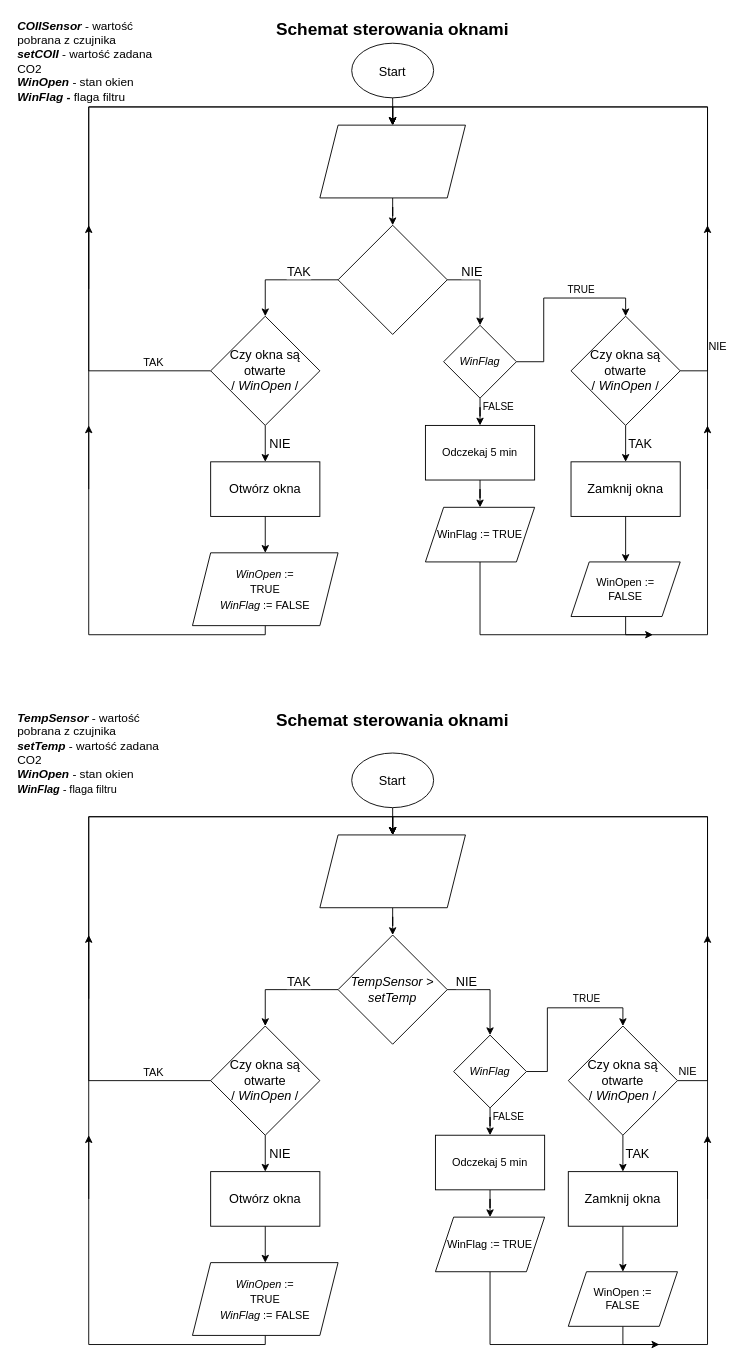
The diagram is 742 pixels wide and 1368 high, and some of its shapes have lost their labels. Each missing label, with the centre of its shape:
COIISensor > setCOII: [392,279]
Pobranie danych z czujnika CO2 / COIISensor /: [392,161]
Pobranie danych z czujnika temperatury / TempSensor /: [392,871]
